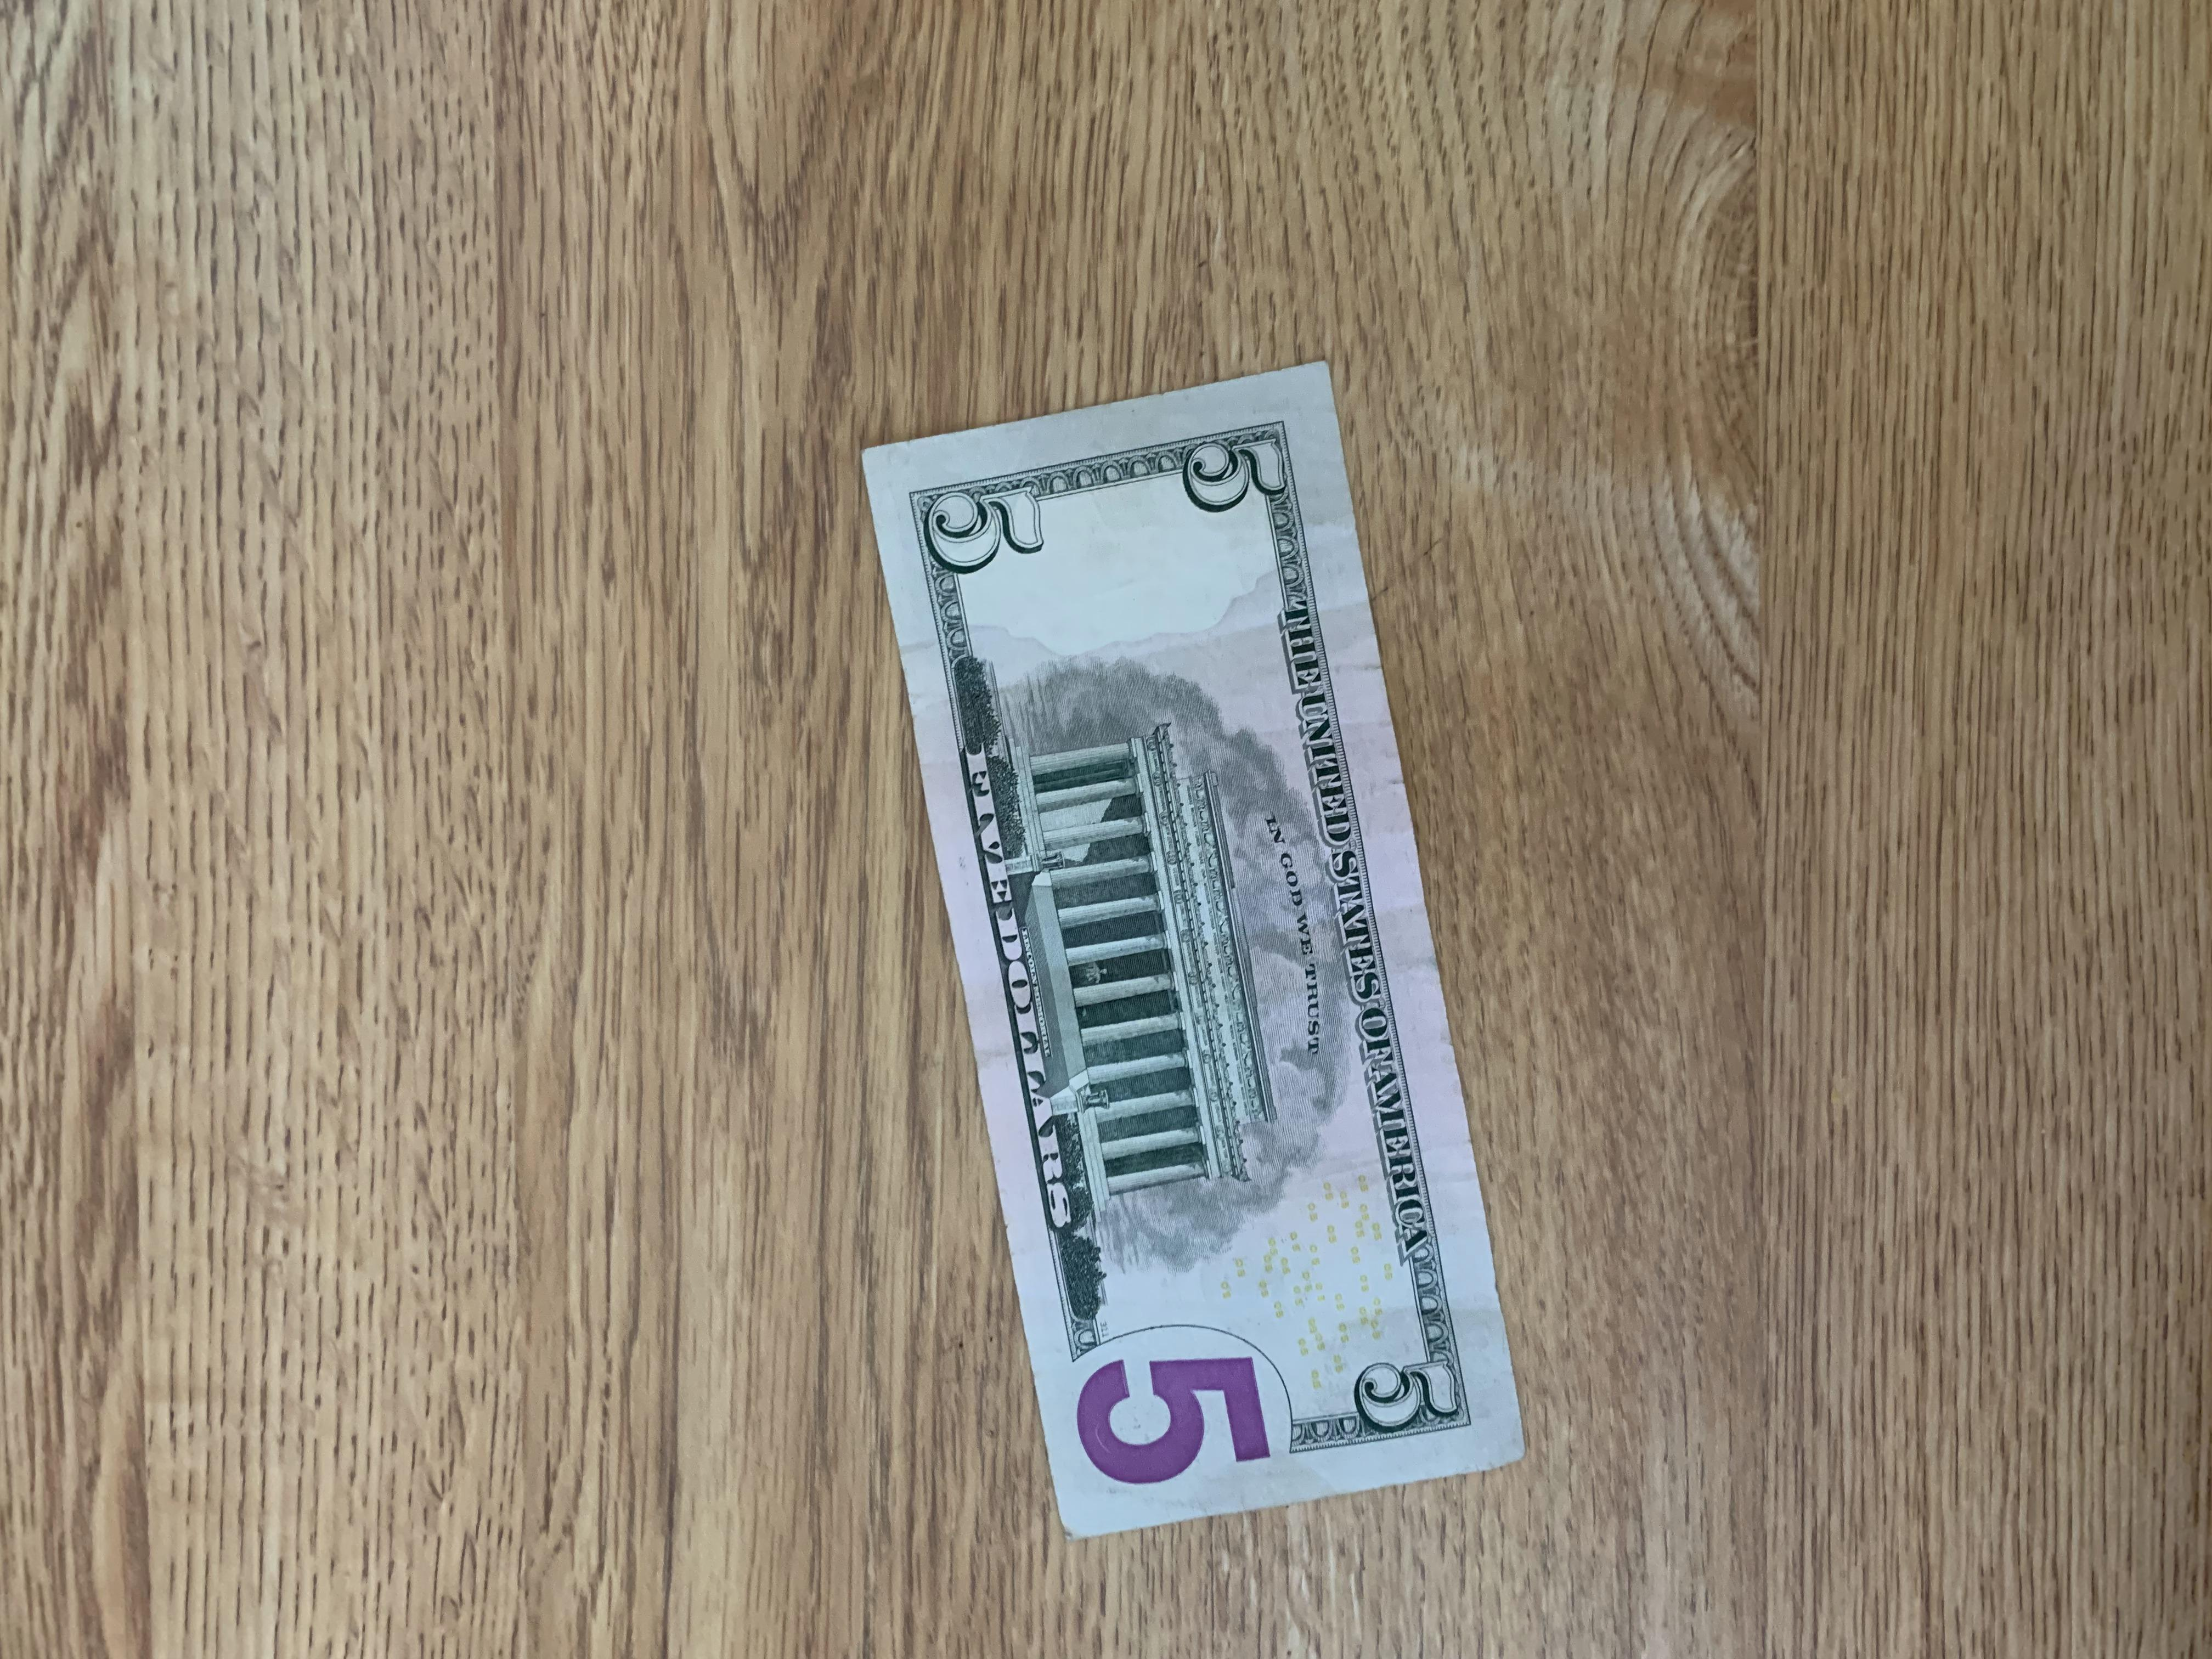FiveBill: (846, 361, 1531, 1544)
